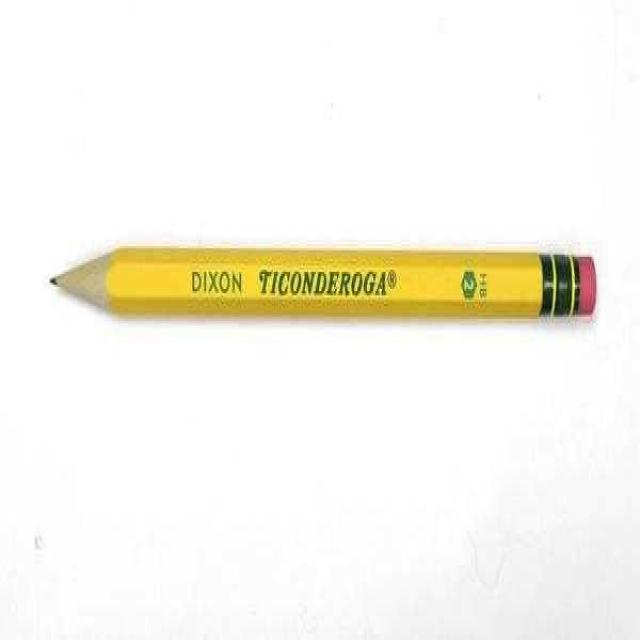pencil: (34, 212, 620, 337)
